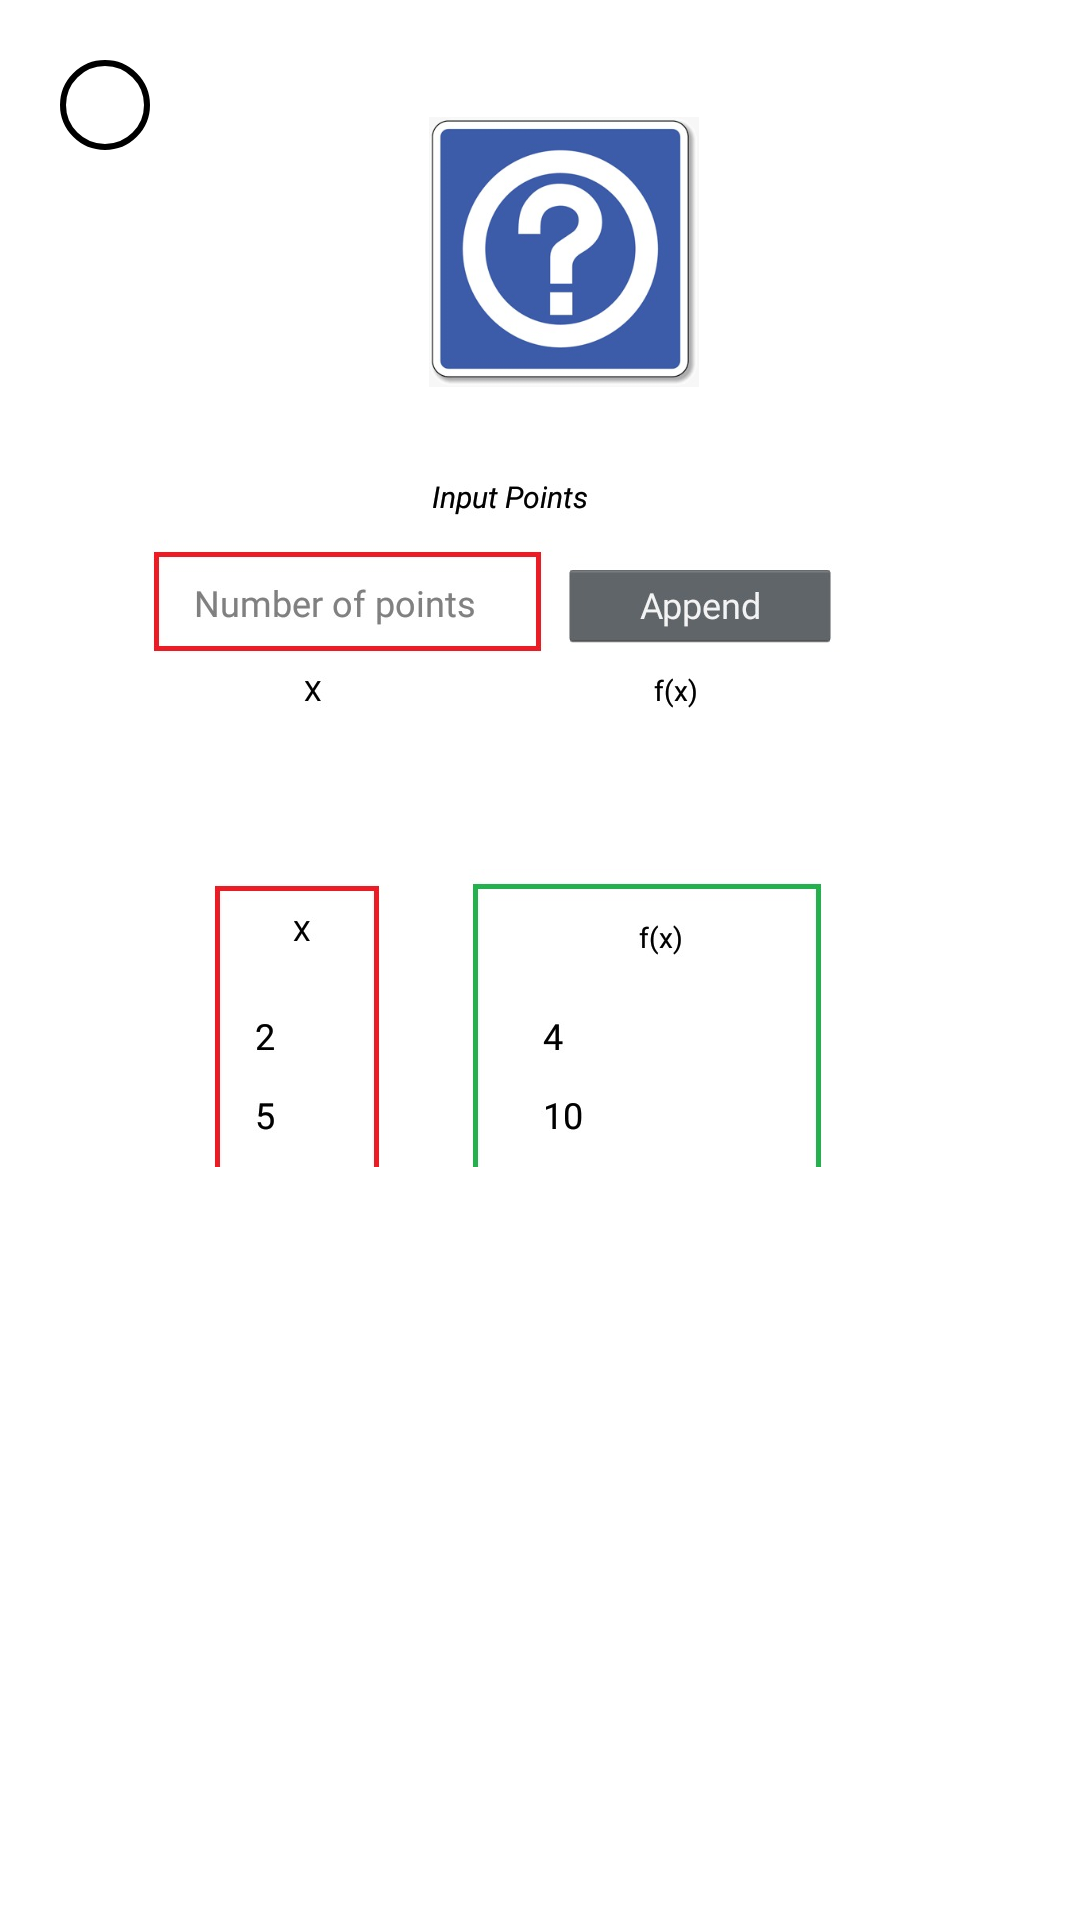

Locate icon controls on the screen. Image size 1080 x 1920, boxes as detection(x1, y1, x2, y2).
signo: detection(431, 120, 694, 383)
